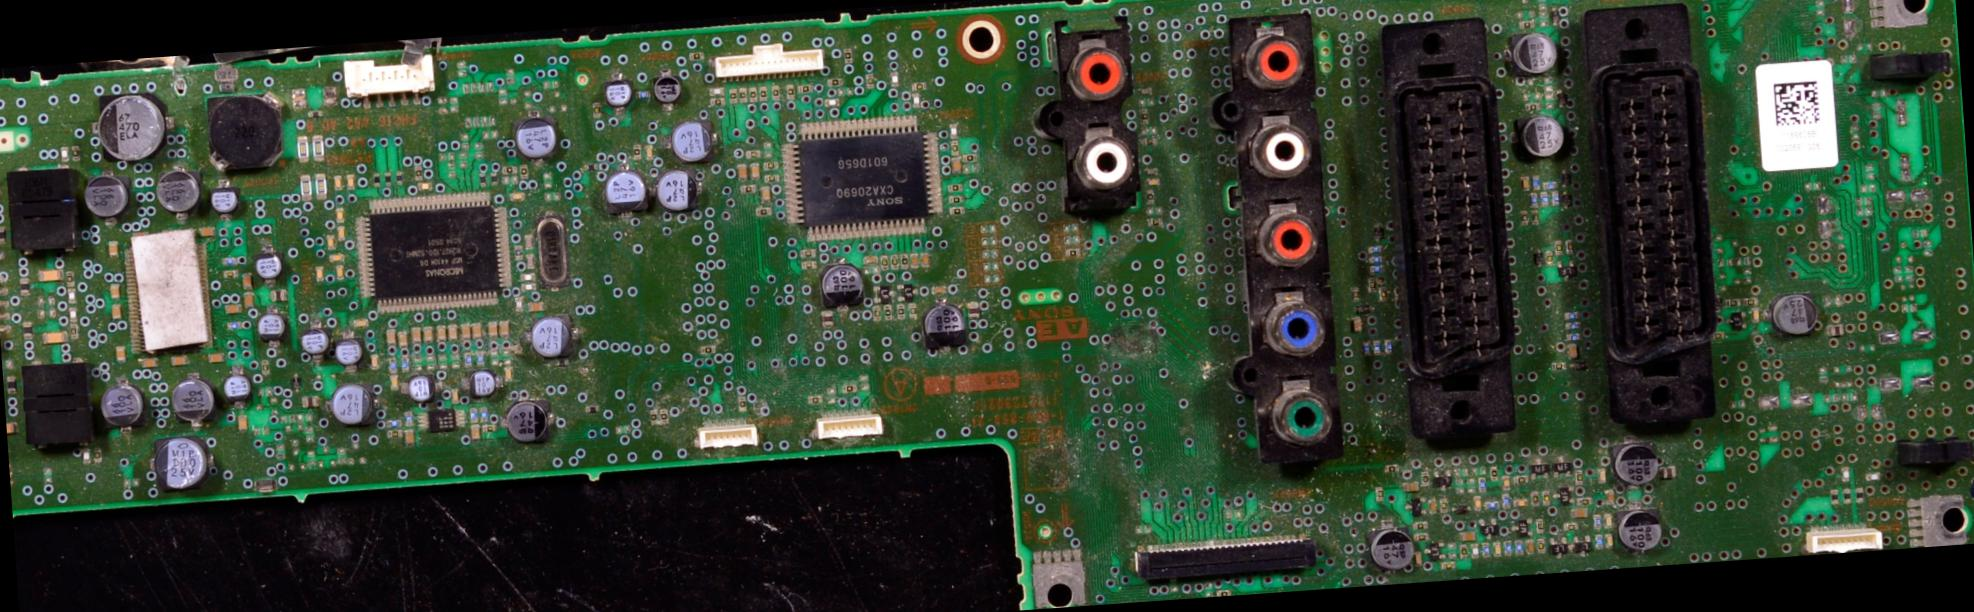Capacitor Jumper: (98, 97, 162, 160), (1764, 288, 1829, 341), (1618, 510, 1679, 562), (511, 113, 575, 162), (1618, 442, 1668, 497), (816, 262, 869, 314), (170, 374, 219, 426), (157, 438, 209, 485), (530, 311, 578, 359), (326, 379, 378, 422), (599, 167, 648, 210), (920, 302, 966, 346), (102, 387, 146, 432), (660, 167, 702, 214), (504, 399, 546, 445), (1517, 112, 1562, 154), (222, 371, 269, 411), (81, 178, 125, 219), (1513, 31, 1554, 73), (1373, 526, 1410, 570), (156, 167, 194, 205), (677, 120, 710, 160), (253, 314, 288, 345), (211, 183, 242, 219), (297, 329, 330, 359), (336, 335, 366, 366), (253, 251, 282, 283), (606, 76, 633, 102), (408, 375, 433, 404), (468, 371, 499, 395)
Connector: (1225, 8, 1357, 456), (1387, 11, 1517, 450), (1585, 0, 1713, 418), (1060, 19, 1148, 234), (1133, 535, 1316, 583), (334, 47, 443, 107), (718, 38, 832, 84)
IC: (350, 183, 517, 321), (782, 117, 947, 237)
